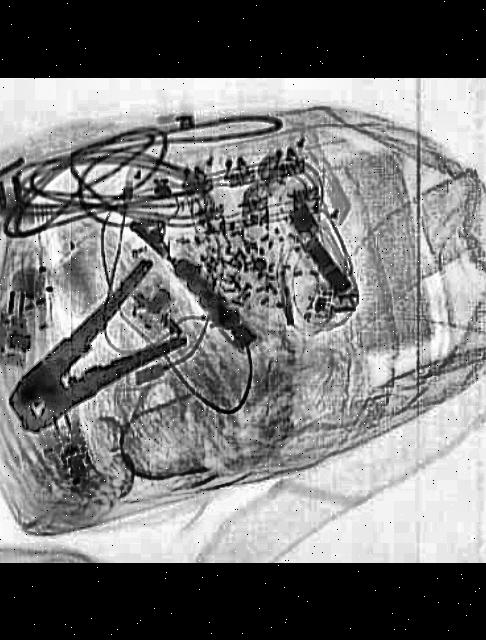Pliers: (0, 254, 222, 449)
